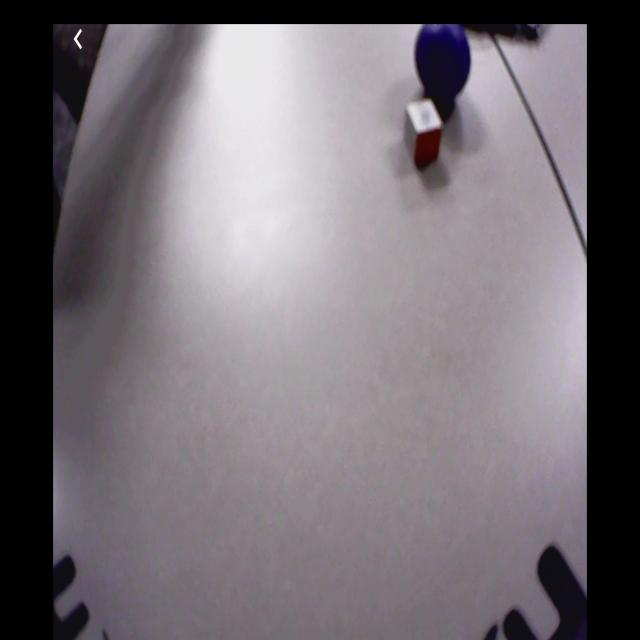ball: (415, 26, 472, 99)
